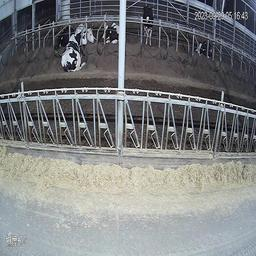cow: (61, 33, 86, 73), (102, 18, 121, 48), (142, 5, 154, 46), (76, 21, 94, 45), (54, 22, 69, 49), (197, 40, 213, 59)
